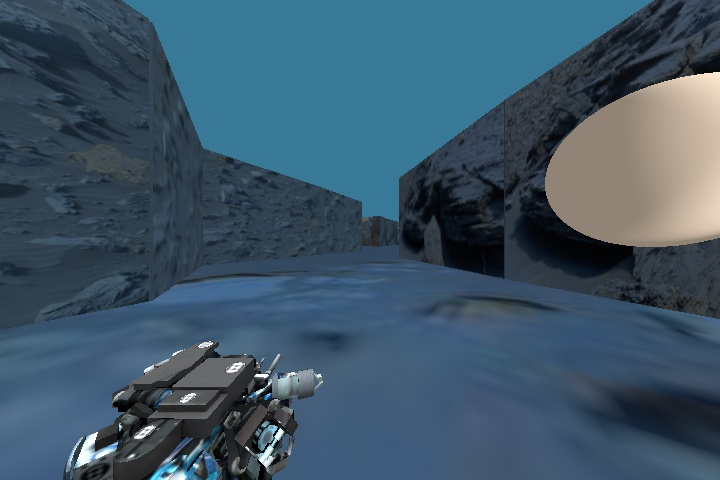white_sphere: (529, 69, 720, 262)
